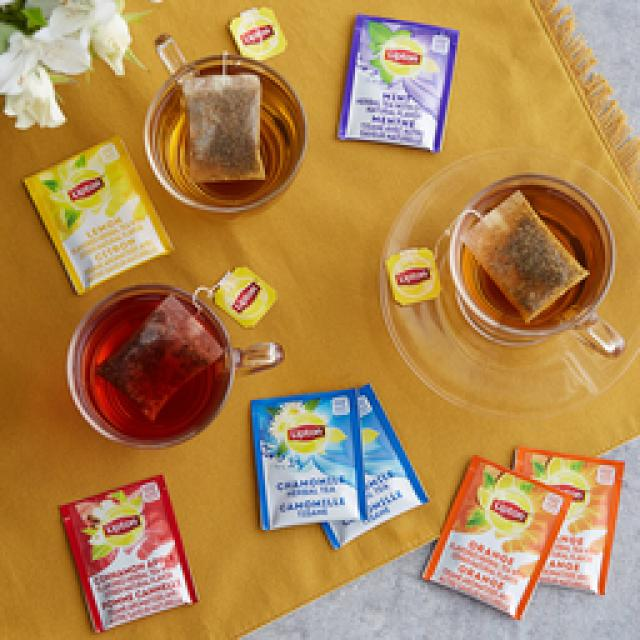tea-bags: (425, 448, 622, 618), (148, 8, 302, 210), (250, 385, 428, 548), (250, 385, 425, 548), (60, 475, 195, 630), (28, 140, 168, 288), (460, 190, 588, 318), (338, 15, 458, 150), (338, 15, 455, 150), (98, 300, 220, 418), (182, 52, 262, 182)
